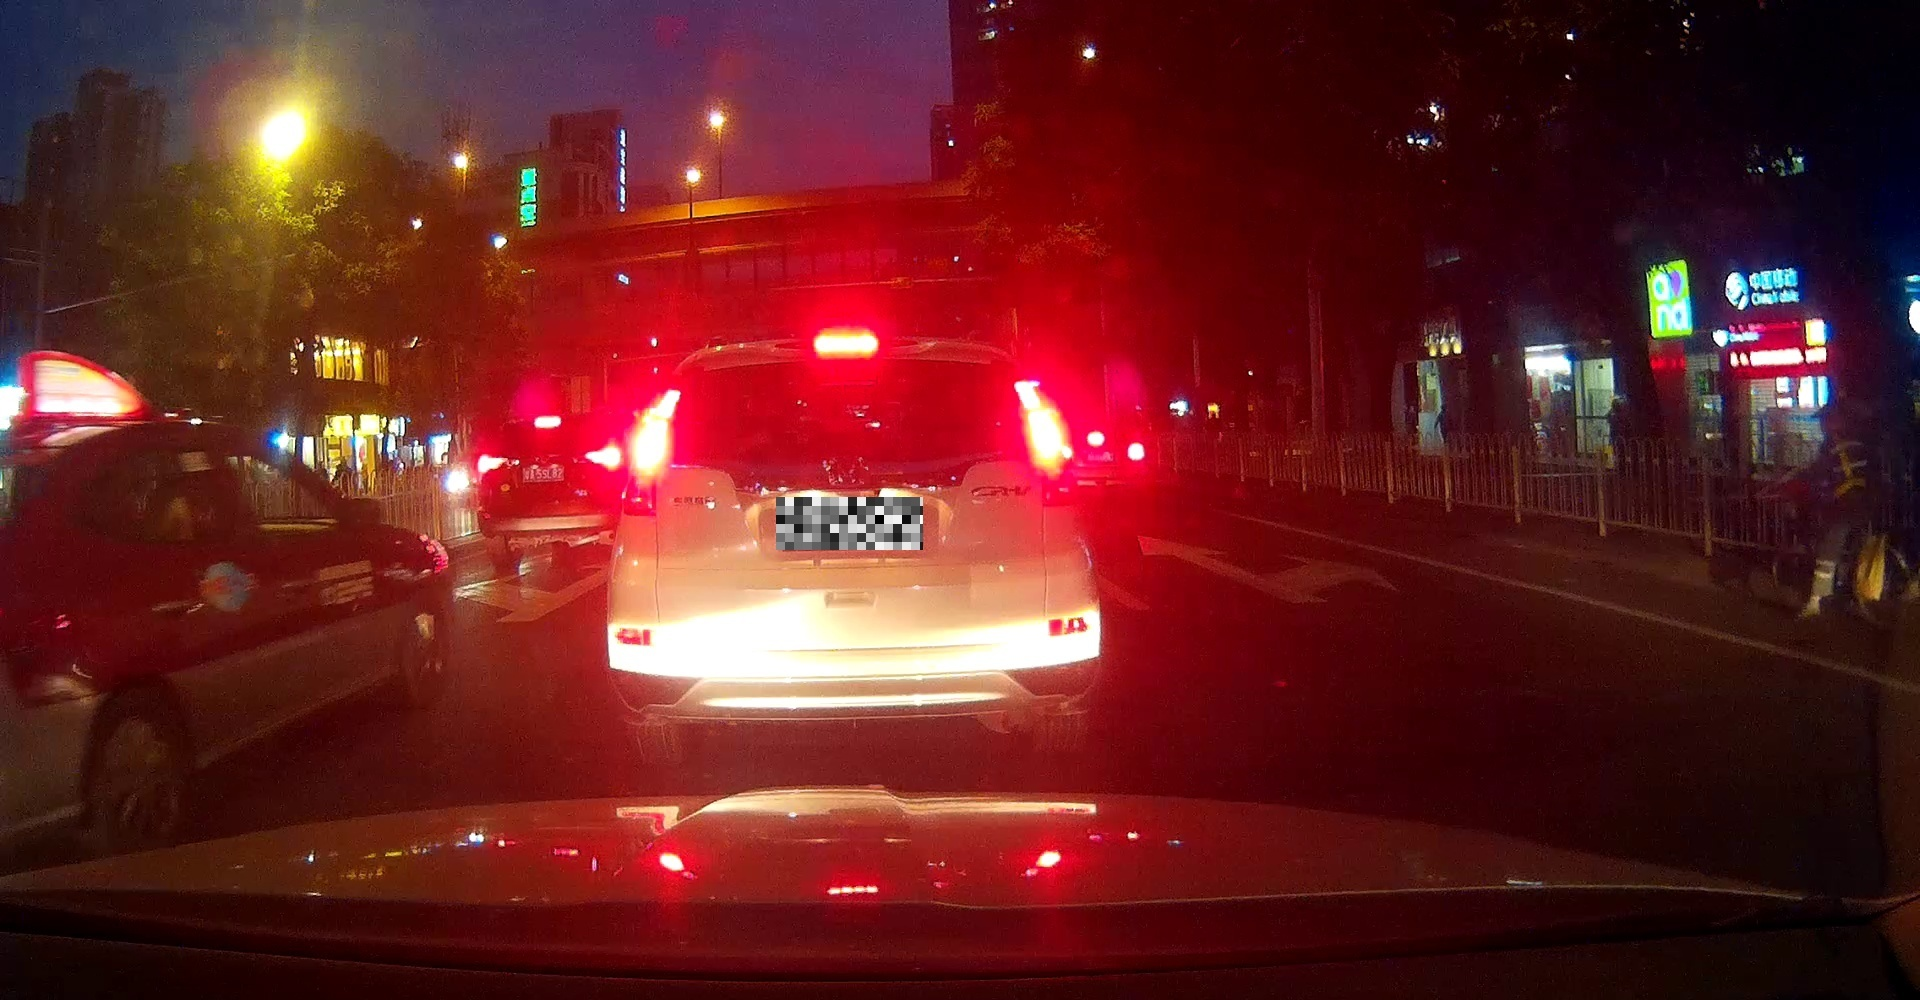L_light: (618, 390, 681, 516)
R_light: (1016, 379, 1079, 505)
T_light: (815, 335, 877, 353)
night-brake: (604, 327, 1102, 761)
plate_1: (776, 497, 923, 549)
